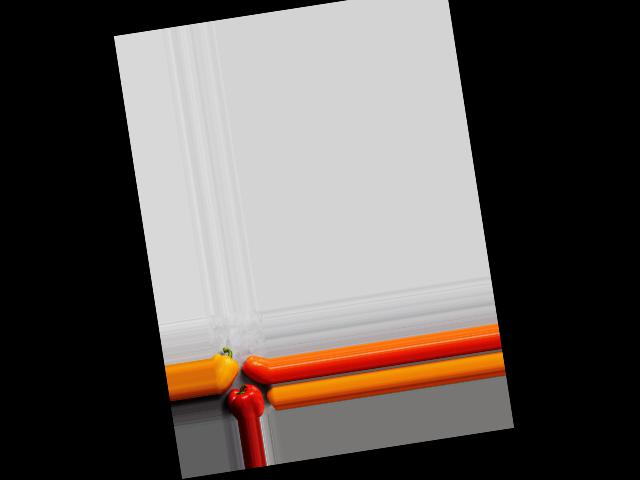bell_pepper: (222, 383, 265, 421)
